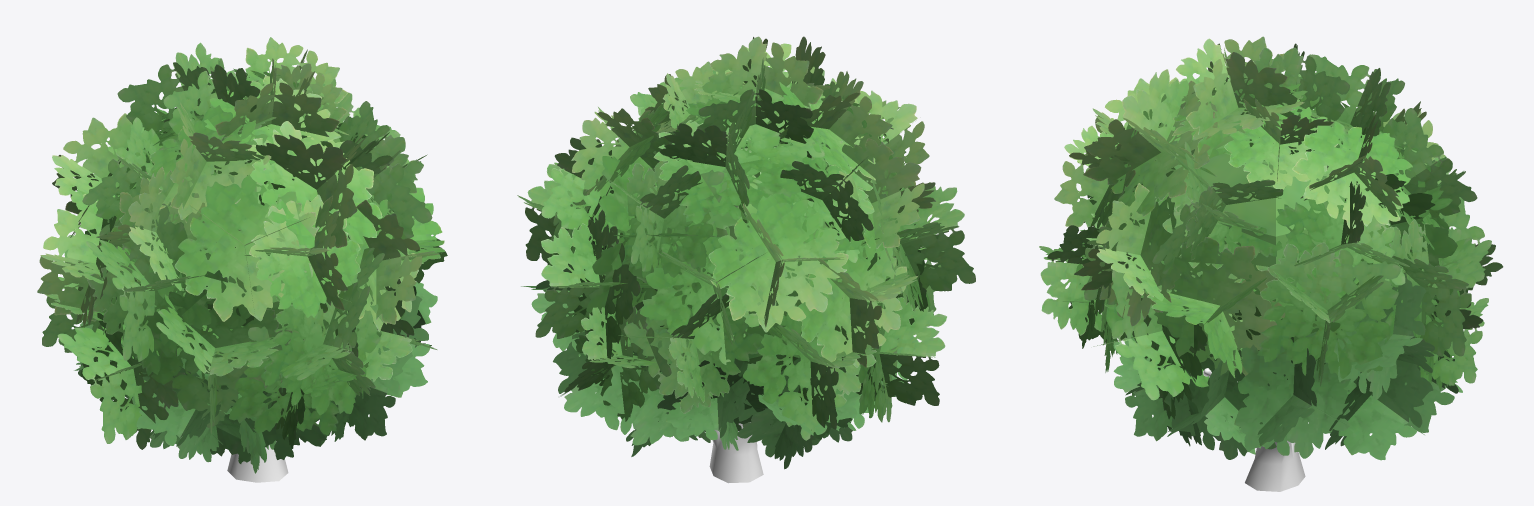
The model's file is P_plant_1314.fbx.
The picture shows the model from 3 angles, left to right: view 1: azimuth 30°, elevation 25°; view 2: azimuth 150°, elevation 25°; view 3: azimuth 270°, elevation 25°; orthographic projection. The views are drawn at different scales.
Parts seen in each view (by area): view 1: S_plant_1314_b, S_plant_1314_a; view 2: S_plant_1314_b, S_plant_1314_a; view 3: S_plant_1314_b, S_plant_1314_a.
Boxes of the visible parts, left/top/right/bottom form: S_plant_1314_b: left=37, top=37, right=447, bottom=473; S_plant_1314_a: left=227, top=441, right=288, bottom=482; S_plant_1314_b: left=517, top=36, right=975, bottom=469; S_plant_1314_a: left=709, top=422, right=763, bottom=483; S_plant_1314_b: left=1039, top=36, right=1503, bottom=460; S_plant_1314_a: left=1203, top=368, right=1305, bottom=491.
Size of the model in its own units: 1.22 by 1.23 by 1.25.
2 materials, 1 textured.
